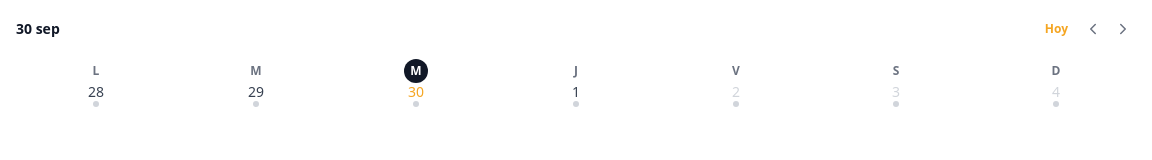
Test: WeekCalendarHeader — week chevrons (WN-1) › next chevron moves into a future week without selecting
Click the button named "Semana siguiente" at (1123, 29), box [1110, 16, 1136, 42]
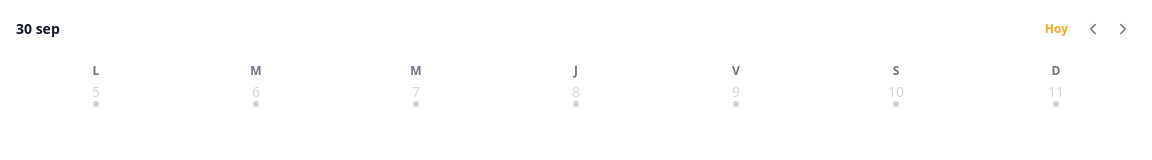
Now the button named "2026-10-05" is shown, box [16, 55, 176, 111]
Now the button named "2026-10-11" is shown, box [976, 55, 1136, 111]
